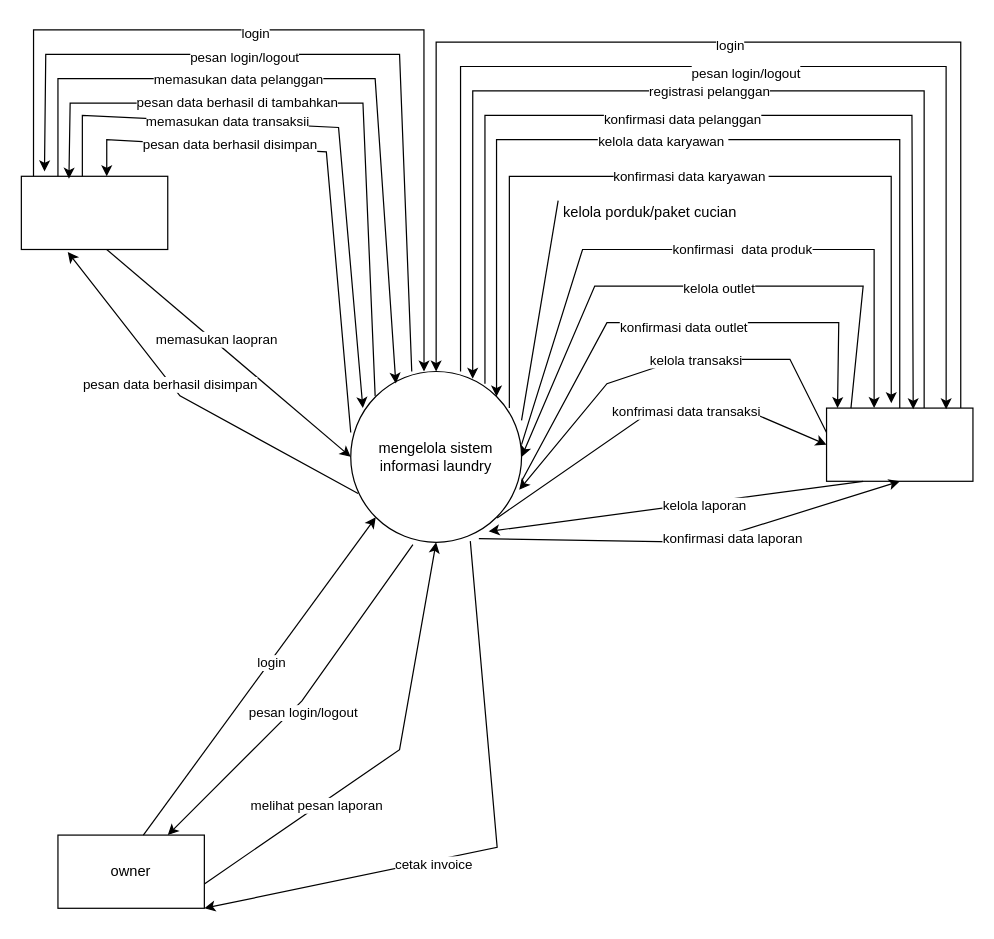
Image size: 994x939. Some labels were removed from this diagram. The shapes that lost their labels are listed below. From the top down, each one's centre as x and y in pixels, then its label:
At (x=94, y=212): "kasir".
At (x=899, y=444): "admin".
